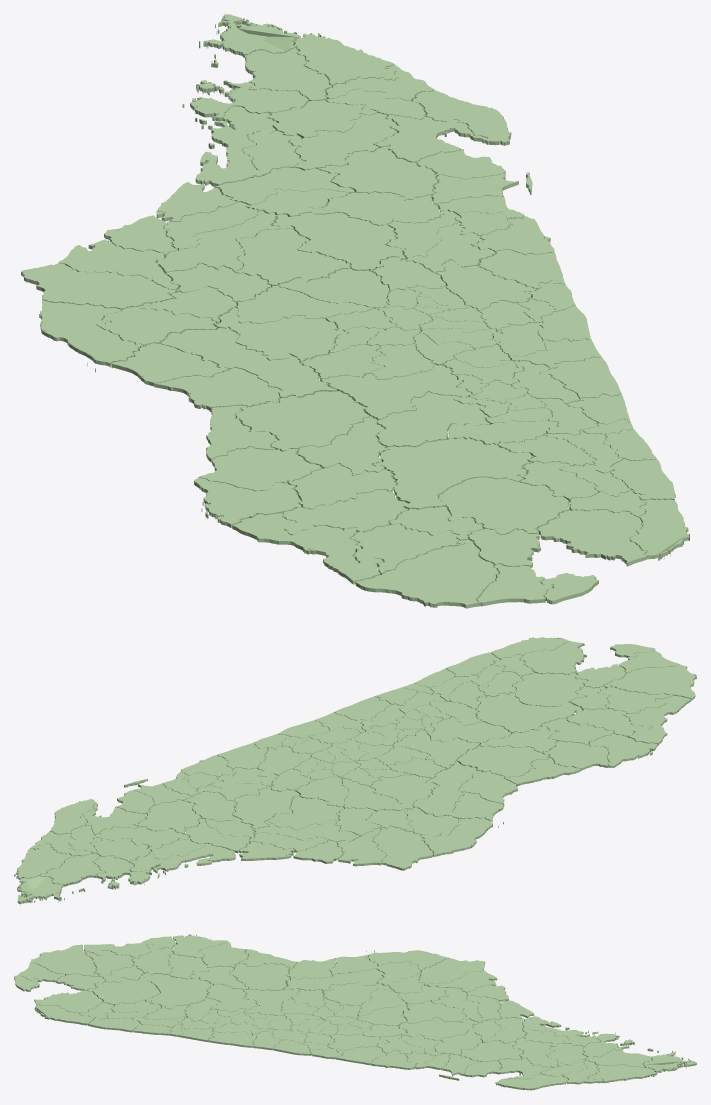
Rendered from madagascar_adm2.glb.
The picture shows the model from 3 angles, top to bottom: view 1: azimuth 30°, elevation 25°; view 2: azimuth 150°, elevation 25°; view 3: azimuth 270°, elevation 25°; orthographic projection. The views are drawn at different scales.
Visible parts, largest first — view 1: Ihosy, Ampanihy Ouest, Betroka, Mahabo, Miandrivazo, Besalampy, Tsaratanana, Amboasary-Atsimo, Toliary-II, Maevatanana, Ambatofinandrahana, Tsiroanomandidy (+74 smaller); view 2: Ihosy, Ampanihy Ouest, Betroka, Mahabo, Miandrivazo, Besalampy, Tsaratanana, Toliary-II, Maintirano, Tsiroanomandidy, Analalava, Maevatanana (+69 smaller); view 3: Ihosy, Ampanihy Ouest, Betroka, Mahabo, Miandrivazo, Tsaratanana, Besalampy, Tsiroanomandidy, Maevatanana, Ambatofinandrahana, Amboasary-Atsimo, Toliary-II (+72 smaller).
Boxes of the visible parts, <box> form: Ihosy: <box>373,437,534,510</box>; Ampanihy Ouest: <box>355,539,498,608</box>; Betroka: <box>438,477,569,534</box>; Mahabo: <box>236,391,371,451</box>; Miandrivazo: <box>161,327,337,398</box>; Besalampy: <box>21,263,178,310</box>; Tsaratanana: <box>272,212,405,270</box>; Amboasary-Atsimo: <box>537,509,647,566</box>; Toliary-II: <box>232,513,383,584</box>; Maevatanana: <box>235,228,350,287</box>; Ambatofinandrahana: <box>321,364,473,420</box>; Tsiroanomandidy: <box>214,308,347,362</box>; Ihosy: <box>476,692,582,734</box>; Ampanihy Ouest: <box>603,664,696,700</box>; Betroka: <box>512,672,587,706</box>; Mahabo: <box>457,745,548,777</box>; Miandrivazo: <box>412,761,481,816</box>; Besalampy: <box>372,826,433,870</box>; Tsaratanana: <box>232,786,299,828</box>; Toliary-II: <box>623,695,691,745</box>; Maintirano: <box>421,817,503,856</box>; Tsiroanomandidy: <box>370,774,439,810</box>; Analalava: <box>129,843,235,874</box>; Maevatanana: <box>268,796,343,830</box>; Ihosy: <box>139,972,212,1009</box>; Ampanihy Ouest: <box>30,944,98,976</box>; Betroka: <box>87,977,159,1004</box>; Mahabo: <box>230,963,289,990</box>; Miandrivazo: <box>284,969,384,990</box>; Tsaratanana: <box>398,1017,476,1040</box>; Besalampy: <box>418,958,485,985</box>; Tsiroanomandidy: <box>322,983,393,1005</box>; Maevatanana: <box>401,1000,465,1023</box>; Ambatofinandrahana: <box>243,989,299,1015</box>; Amboasary-Atsimo: <box>34,990,102,1013</box>; Toliary-II: <box>84,936,176,958</box>.
Bounding box in the file's own units: 7.29 × 0.08 × 13.64.
